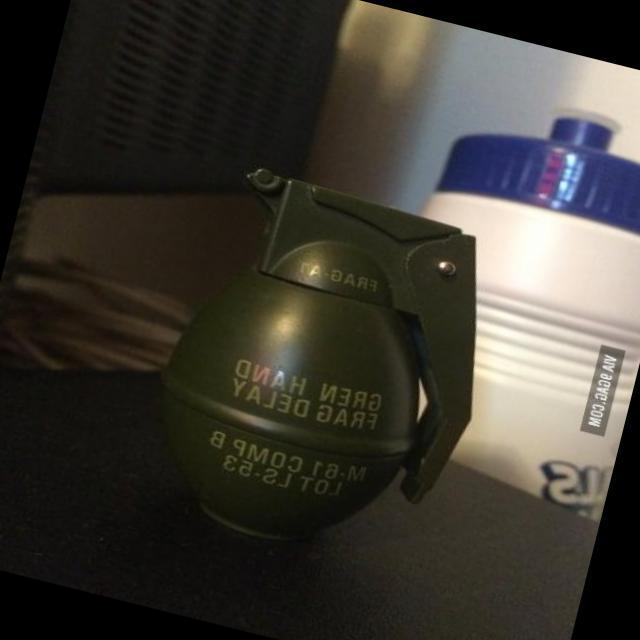grenade: (118, 149, 516, 583)
